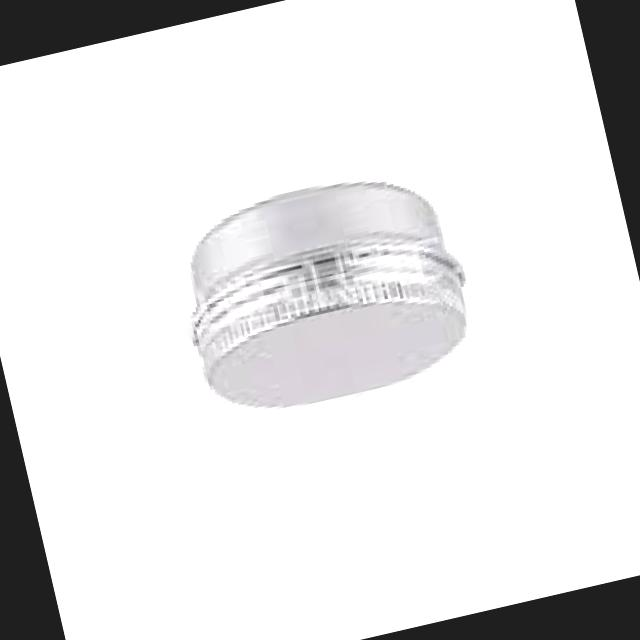kim_loai: (192, 181, 468, 407)
